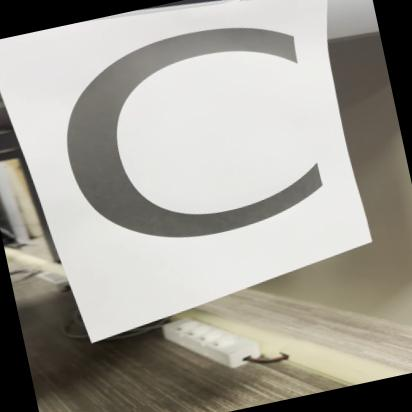seat: (25, 0, 364, 298)
